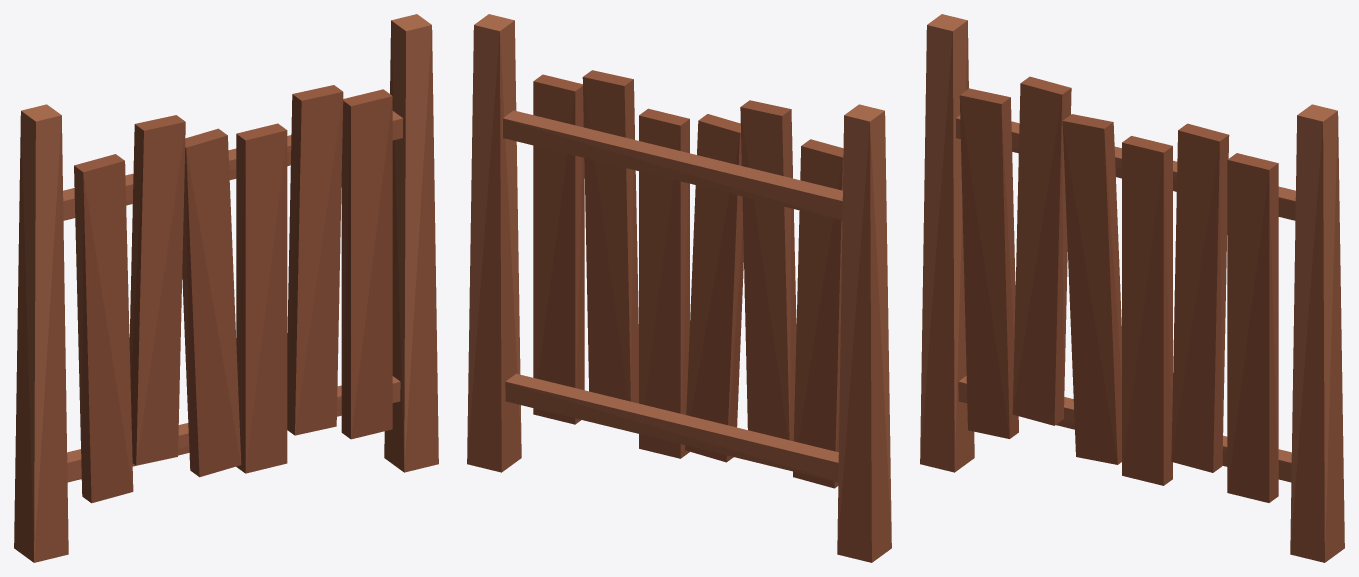
The model's file is survival_fence_fortified.glb.
The picture shows the model from 3 angles, left to right: view 1: azimuth 30°, elevation 25°; view 2: azimuth 150°, elevation 25°; view 3: azimuth 330°, elevation 25°; orthographic projection.
Parts seen in each view (by area): view 1: survival_fence_fortified; view 2: survival_fence_fortified; view 3: survival_fence_fortified.
Boxes of the visible parts, x1,y1,x2,y2 form: survival_fence_fortified: (14,14,438,562); survival_fence_fortified: (467,14,891,562); survival_fence_fortified: (920,14,1344,562).
Bounding box in the file's own units: 0.5 × 0.5175 × 0.053.
